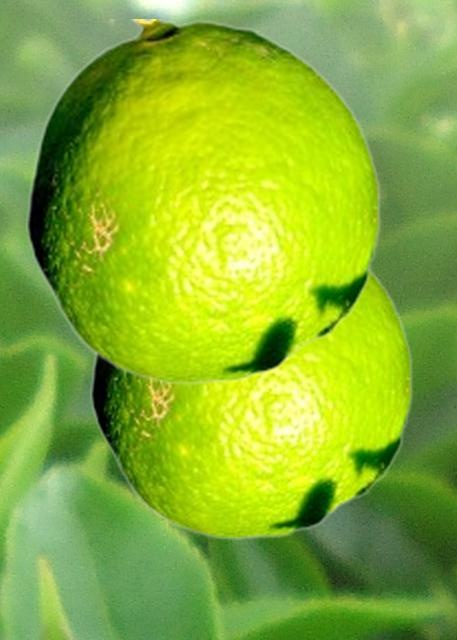dalandan: (26, 19, 380, 384), (90, 269, 412, 539)
